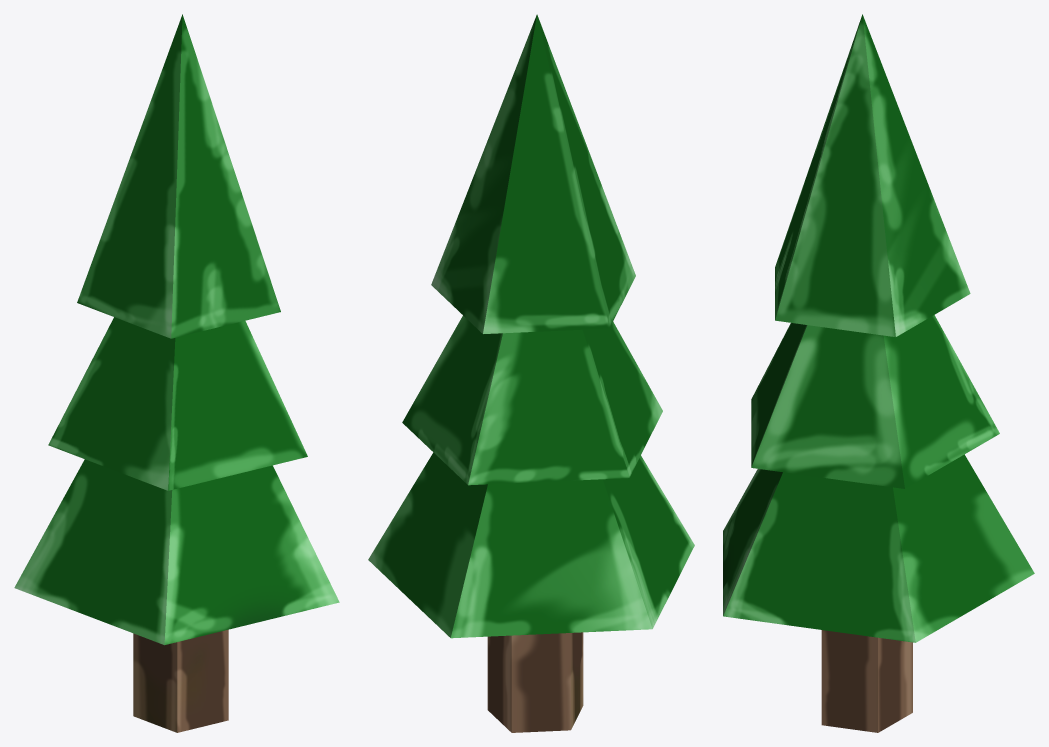
The model's file is tree.glb.
3 views of the same model, side by side, from view 1: azimuth 30°, elevation 25°; view 2: azimuth 150°, elevation 25°; view 3: azimuth 270°, elevation 25° (orthographic).
Parts seen in each view (by area): view 1: Tree; view 2: Tree; view 3: Tree.
Part boxes in pixels (box(x1,y1,x2,y2)): Tree: box(14, 14, 339, 732); Tree: box(368, 14, 694, 732); Tree: box(723, 14, 1034, 732).
Size of the model in its own units: 0.4247 by 0.9988 by 0.4039.
Materials: 1 (1 with a texture image).
